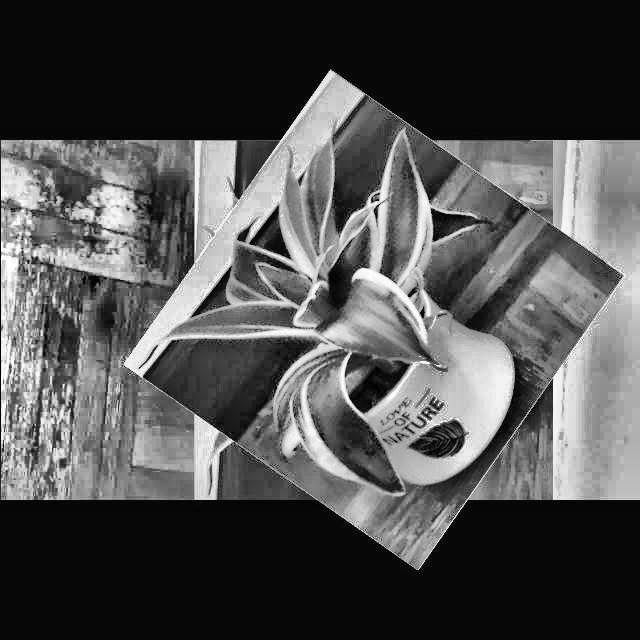plants: (158, 105, 588, 535)
